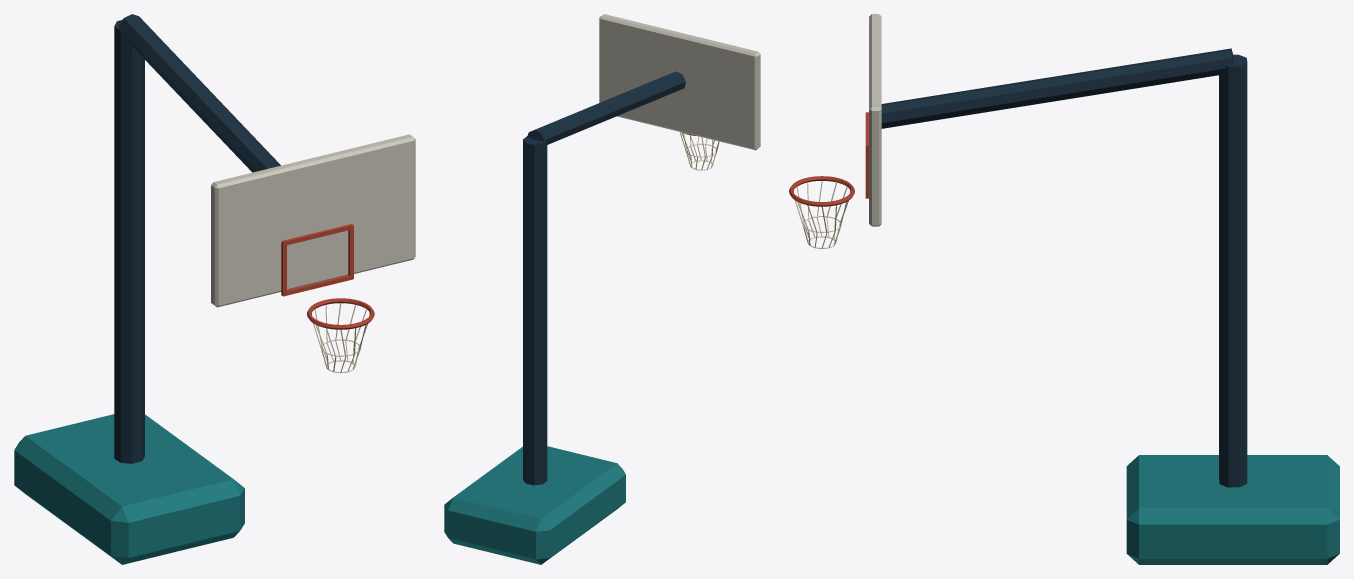
The model's file is hoop.glb.
3 views of the same model, side by side, from view 1: azimuth 30°, elevation 25°; view 2: azimuth 150°, elevation 25°; view 3: azimuth 270°, elevation 25° (orthographic). The views are drawn at different scales.
Visible parts, largest first — view 1: hoop_frame; view 2: hoop_frame; view 3: hoop_frame.
Boxes of the visible parts, bbox=[...] form: hoop_frame: bbox=[14, 14, 415, 564]; hoop_frame: bbox=[444, 14, 760, 564]; hoop_frame: bbox=[789, 14, 1339, 564].
Bounding box in the file's own units: 1.8 × 4.3 × 4.39.
